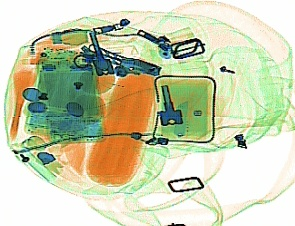glassbottle: (50, 27, 88, 46)
jswkdaopian: (172, 99, 188, 143)
smallelectronicequipment: (23, 43, 100, 142), (35, 50, 105, 144)
